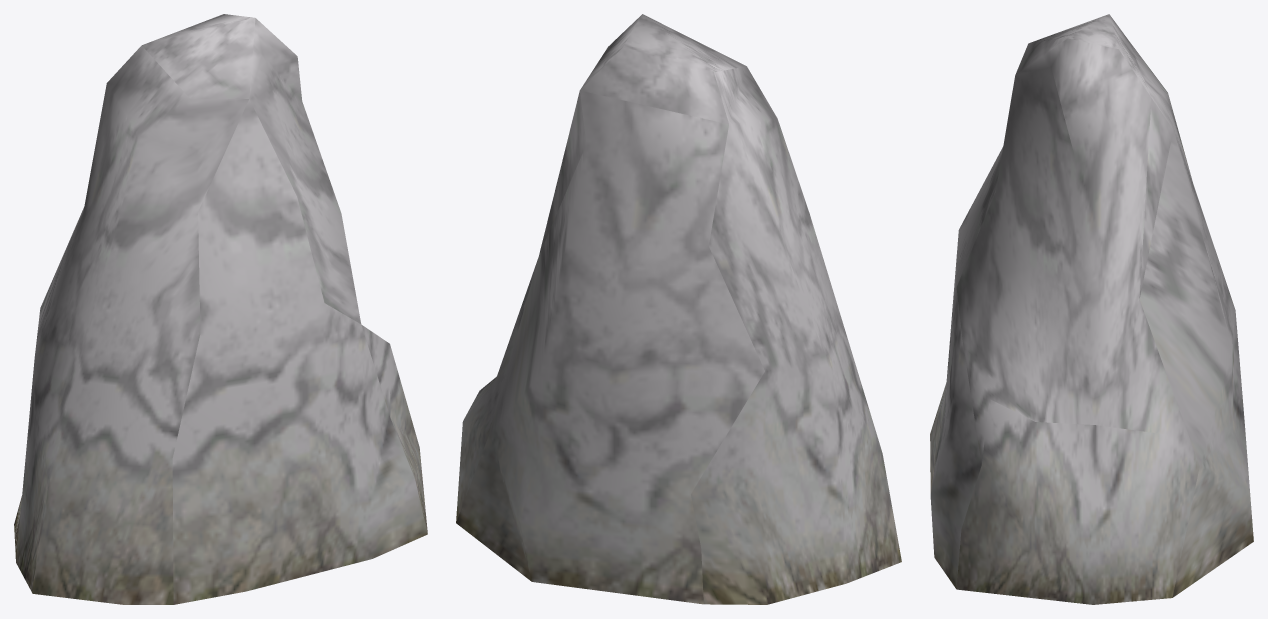
File: general_obj_bigstone09_lod_01.glb
The picture shows the model from 3 angles, left to right: view 1: azimuth 30°, elevation 25°; view 2: azimuth 150°, elevation 25°; view 3: azimuth 270°, elevation 25°; orthographic projection.
Parts seen in each view (by area): view 1: Sphere01fs01; view 2: Sphere01fs01; view 3: Sphere01fs01.
Part boxes in pixels (bbox=[...]): Sphere01fs01: bbox=[14, 14, 427, 604]; Sphere01fs01: bbox=[456, 14, 901, 604]; Sphere01fs01: bbox=[930, 14, 1253, 604].
Size of the model in its own units: 15.54 by 19.25 by 11.38.
1 material, 1 textured.
